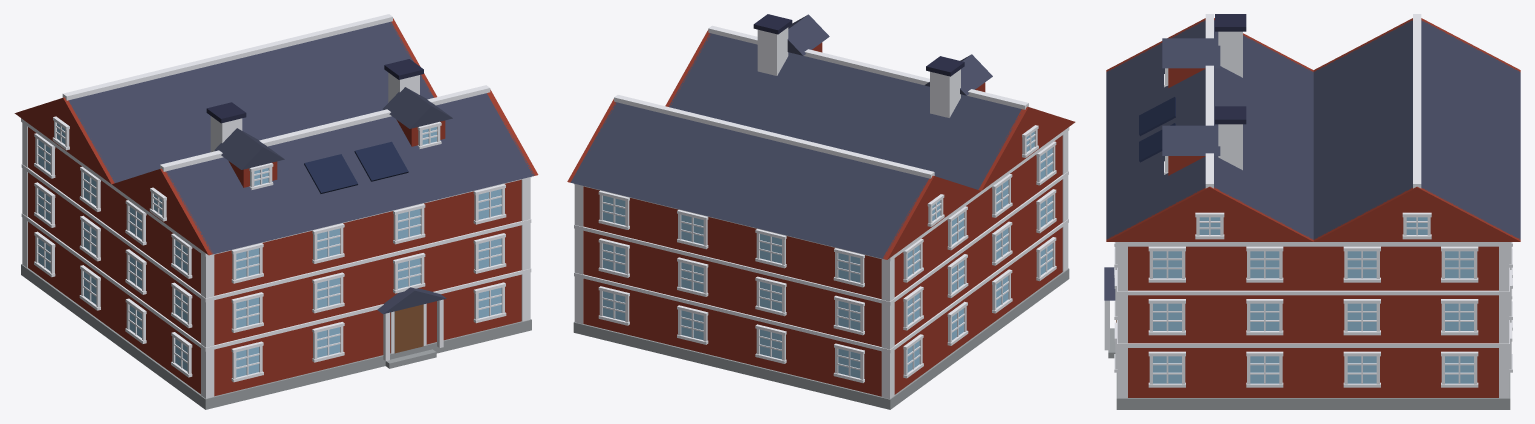
File: house-2x2-3f-stuga-a-solar.glb
3 views of the same model, side by side, from view 1: azimuth 30°, elevation 25°; view 2: azimuth 150°, elevation 25°; view 3: azimuth 270°, elevation 25° (orthographic). The views are drawn at different scales.
Parts seen in each view (by area): view 1: house-2x2-3f-stuga-a-solar; view 2: house-2x2-3f-stuga-a-solar; view 3: house-2x2-3f-stuga-a-solar.
Boxes of the visible parts, bbox=[...] form: house-2x2-3f-stuga-a-solar: bbox=[14, 14, 538, 409]; house-2x2-3f-stuga-a-solar: bbox=[567, 14, 1075, 409]; house-2x2-3f-stuga-a-solar: bbox=[1104, 14, 1520, 409].
Size of the model in its own units: 2 by 1.38 by 2.01.
1 material, 1 textured.
